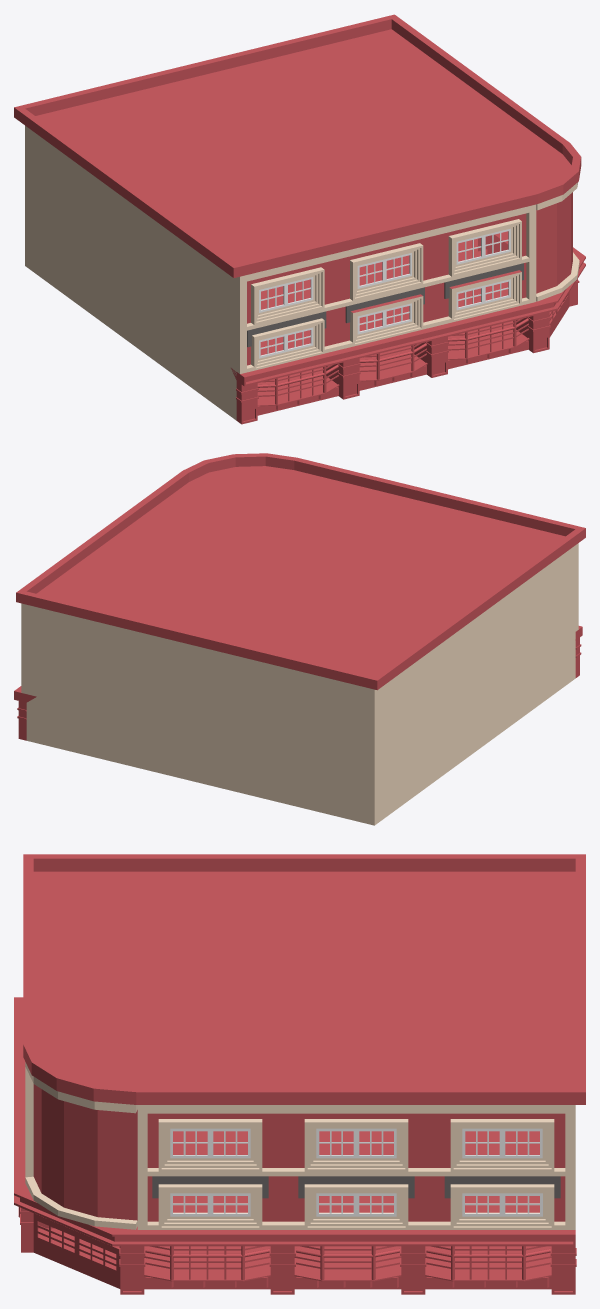
3 views of the same model, one above another, from view 1: azimuth 30°, elevation 25°; view 2: azimuth 150°, elevation 25°; view 3: azimuth 270°, elevation 25° (orthographic). The views are drawn at different scales.
Parts seen in each view (by area): view 1: building; view 2: building; view 3: building, door 2, door 1.
Part boxes in pixels (bbox=[...]): building: bbox=[14, 14, 585, 424]; building: bbox=[14, 453, 585, 825]; building: bbox=[14, 854, 585, 1294]; door 2: bbox=[35, 1217, 76, 1270]; door 1: bbox=[77, 1235, 118, 1287].
Bounding box in the file's own units: 2638 × 1025 × 2638.
